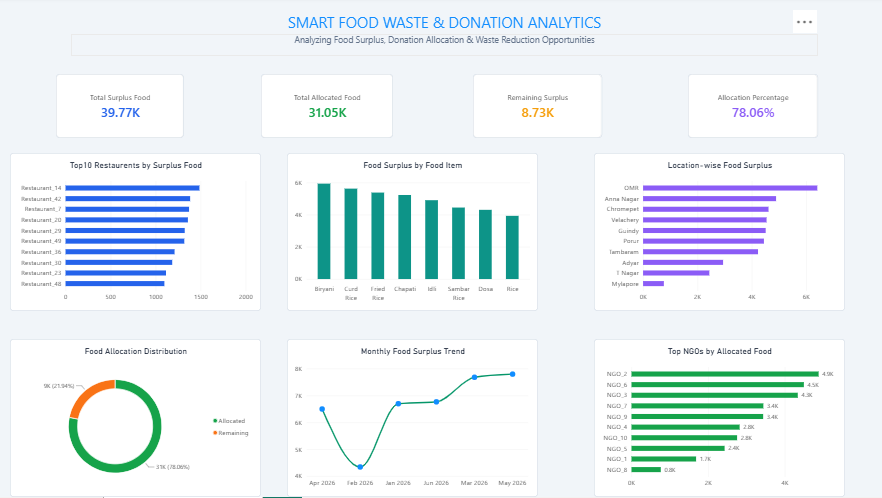

This screenshot's page, from the dashboard's own definition file:
{"tool":"powerbi","page":{"name":"Food Waste Overview","canvas":[1920,1080],"ordinal":0},"visuals":[{"type":"cardVisual","fields":{"Data":["cleaned_food_surplus.Total Surplus Food"]},"box":[127.4,166.3,276.5,138.2],"z":0},{"type":"cardVisual","fields":{"Data":["donation_allocations.Total Allocated Food"]},"box":[570.2,166.3,285.1,138.2],"z":1},{"type":"cardVisual","fields":{"Data":["cleaned_food_surplus.Remaining Surplus"]},"box":[1028.2,166.3,278.6,138.2],"z":2},{"type":"cardVisual","fields":{"Data":["donation_allocations.Allocation Percentage"]},"box":[1492.6,166.3,280.8,138.2],"z":3},{"type":"clusteredBarChart","title":"Top10 Restaurents by Surplus Food","fields":{"Category":["cleaned_restaurants.restaurant_name"],"Y":["cleaned_food_surplus.Total Surplus Food"]},"box":[28.1,337,542.2,341.3],"z":4},{"type":"clusteredColumnChart","title":"Food Surplus by Food Item","fields":{"Category":["cleaned_food_surplus.food_item"],"Y":["cleaned_food_surplus.Total Surplus Food"]},"box":[626.4,337,542.2,341.3],"z":5},{"type":"clusteredBarChart","title":"Location-wise Food Surplus","fields":{"Category":["cleaned_restaurants.location"],"Y":["cleaned_food_surplus.Total Surplus Food"]},"box":[1289.5,337,542.2,341.3],"z":6},{"type":"donutChart","title":"Food Allocation Distribution","fields":{"Category":["Donation Status.Status"],"Y":["Donation Status.Donation Status Quantity"]},"box":[28.1,738.7,542.2,341.3],"z":7},{"type":"lineChart","title":"Monthly Food Surplus Trend","fields":{"Category":["cleaned_food_surplus.Month Year"],"Y":["cleaned_food_surplus.Total Surplus Food"]},"box":[626.4,738.7,542.2,341.3],"z":8},{"type":"clusteredBarChart","title":"Top NGOs by Allocated Food","fields":{"Category":["cleaned_ngos.ngo_name"],"Y":["donation_allocations.Total Allocated Food"]},"box":[1289.5,738.7,542.2,341.3],"z":9},{"type":"textbox","box":[339.1,32.4,1239.8,95],"z":10},{"type":"textbox","box":[159.8,79.9,1613.5,47.5],"z":11}]}

Visuals, with their boxes in screenshot pixels (x1, y1, x2, y2), scaled from the page's 1920x1080 canvas onto the 882x498 screenshot:
cardVisual - cleaned_food_surplus.Total Surplus Food: Rect(59, 77, 186, 140)
cardVisual - donation_allocations.Total Allocated Food: Rect(262, 77, 393, 140)
cardVisual - cleaned_food_surplus.Remaining Surplus: Rect(472, 77, 600, 140)
cardVisual - donation_allocations.Allocation Percentage: Rect(686, 77, 815, 140)
"Top10 Restaurents by Surplus Food" clusteredBarChart: Rect(13, 155, 262, 313)
"Food Surplus by Food Item" clusteredColumnChart: Rect(288, 155, 537, 313)
"Location-wise Food Surplus" clusteredBarChart: Rect(592, 155, 841, 313)
"Food Allocation Distribution" donutChart: Rect(13, 341, 262, 497)
"Monthly Food Surplus Trend" lineChart: Rect(288, 341, 537, 497)
"Top NGOs by Allocated Food" clusteredBarChart: Rect(592, 341, 841, 497)
textbox: Rect(156, 15, 725, 59)
textbox: Rect(73, 37, 815, 59)
